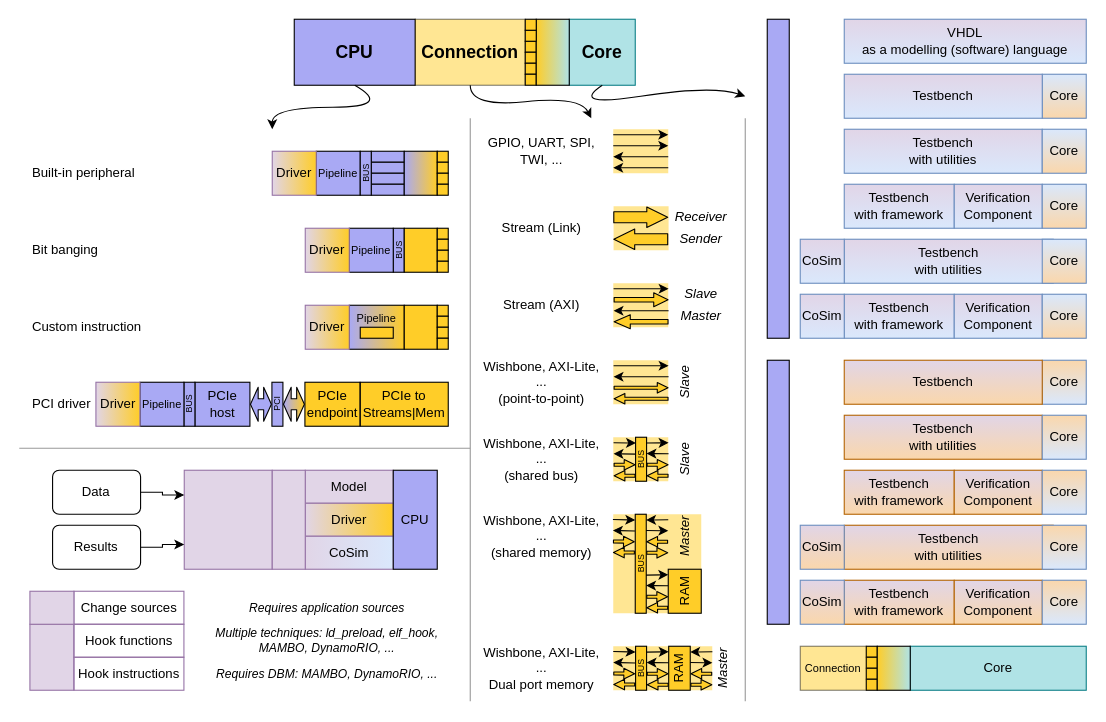
The diagram is 1106 pixels wide and 722 high, and some of its shapes have lost their labels. The box of each missing label's shape, as (x1, y1, x2, y2) in pixels:
Application: (183, 469, 272, 569)
Binary: (29, 623, 74, 690)
GHDL: (766, 18, 789, 338)
Source: (29, 590, 74, 624)
Source | Binary modification: (271, 469, 305, 569)
Verilator | CXXRTL: (766, 359, 789, 624)
